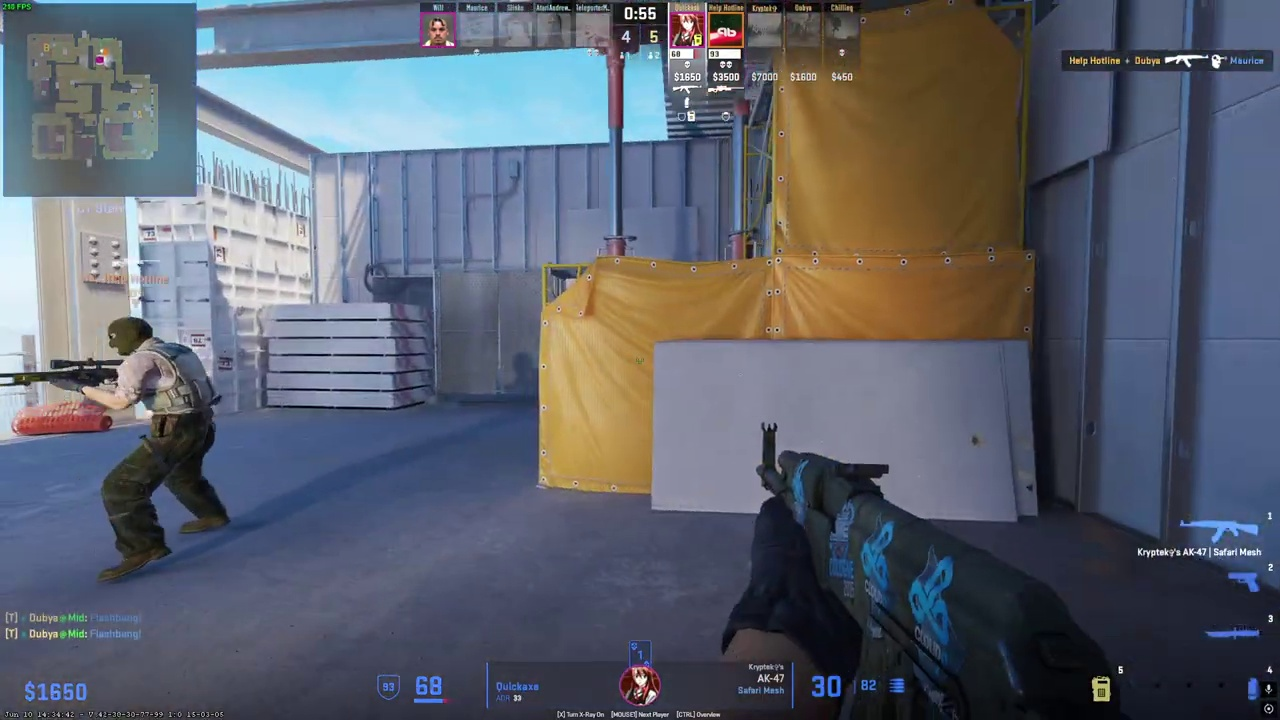Terrorist: (84, 317, 224, 582)
